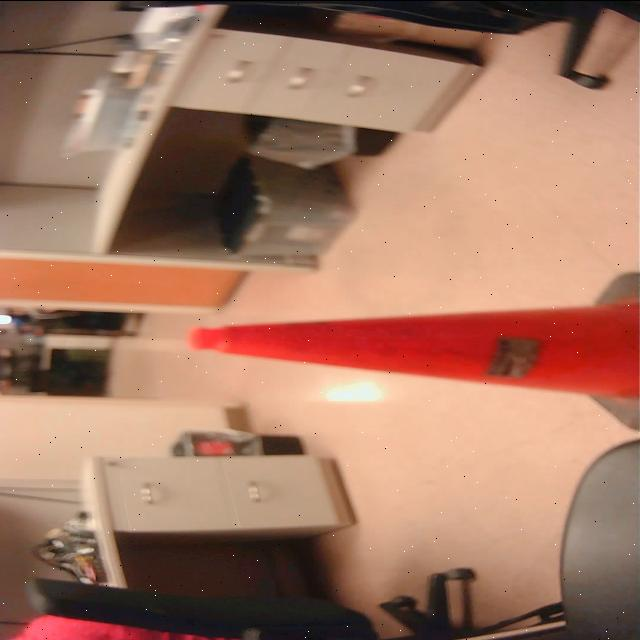traffic cone: (182, 268, 640, 436)
